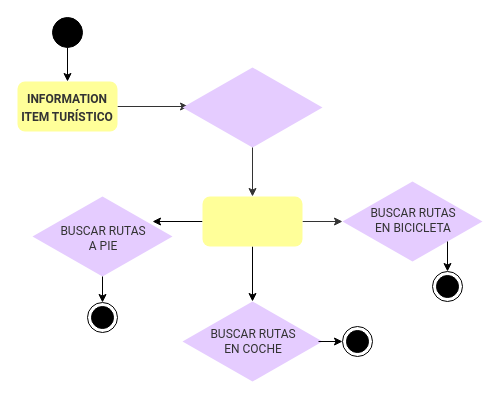
The diagram is 499 pixels wide and 399 high, and some of its shapes have lost their labels. Each missing label, with the box of its shape:
LOCATION ITEM TURÍSTICO: (202, 196, 302, 246)
PULSA BOTÓN SECCIÓN "LOCATION": (182, 67, 322, 147)
